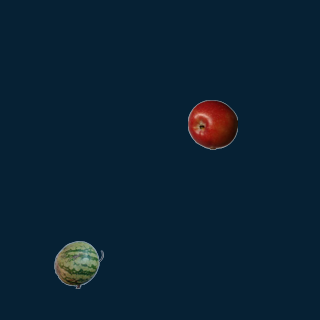Apple Braeburn: (187, 99, 237, 149)
Watermelon: (53, 239, 103, 289)
